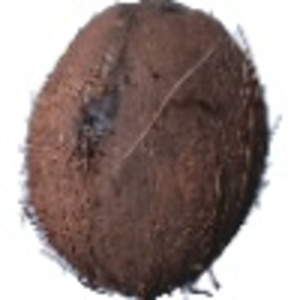coco: (21, 1, 280, 300)
